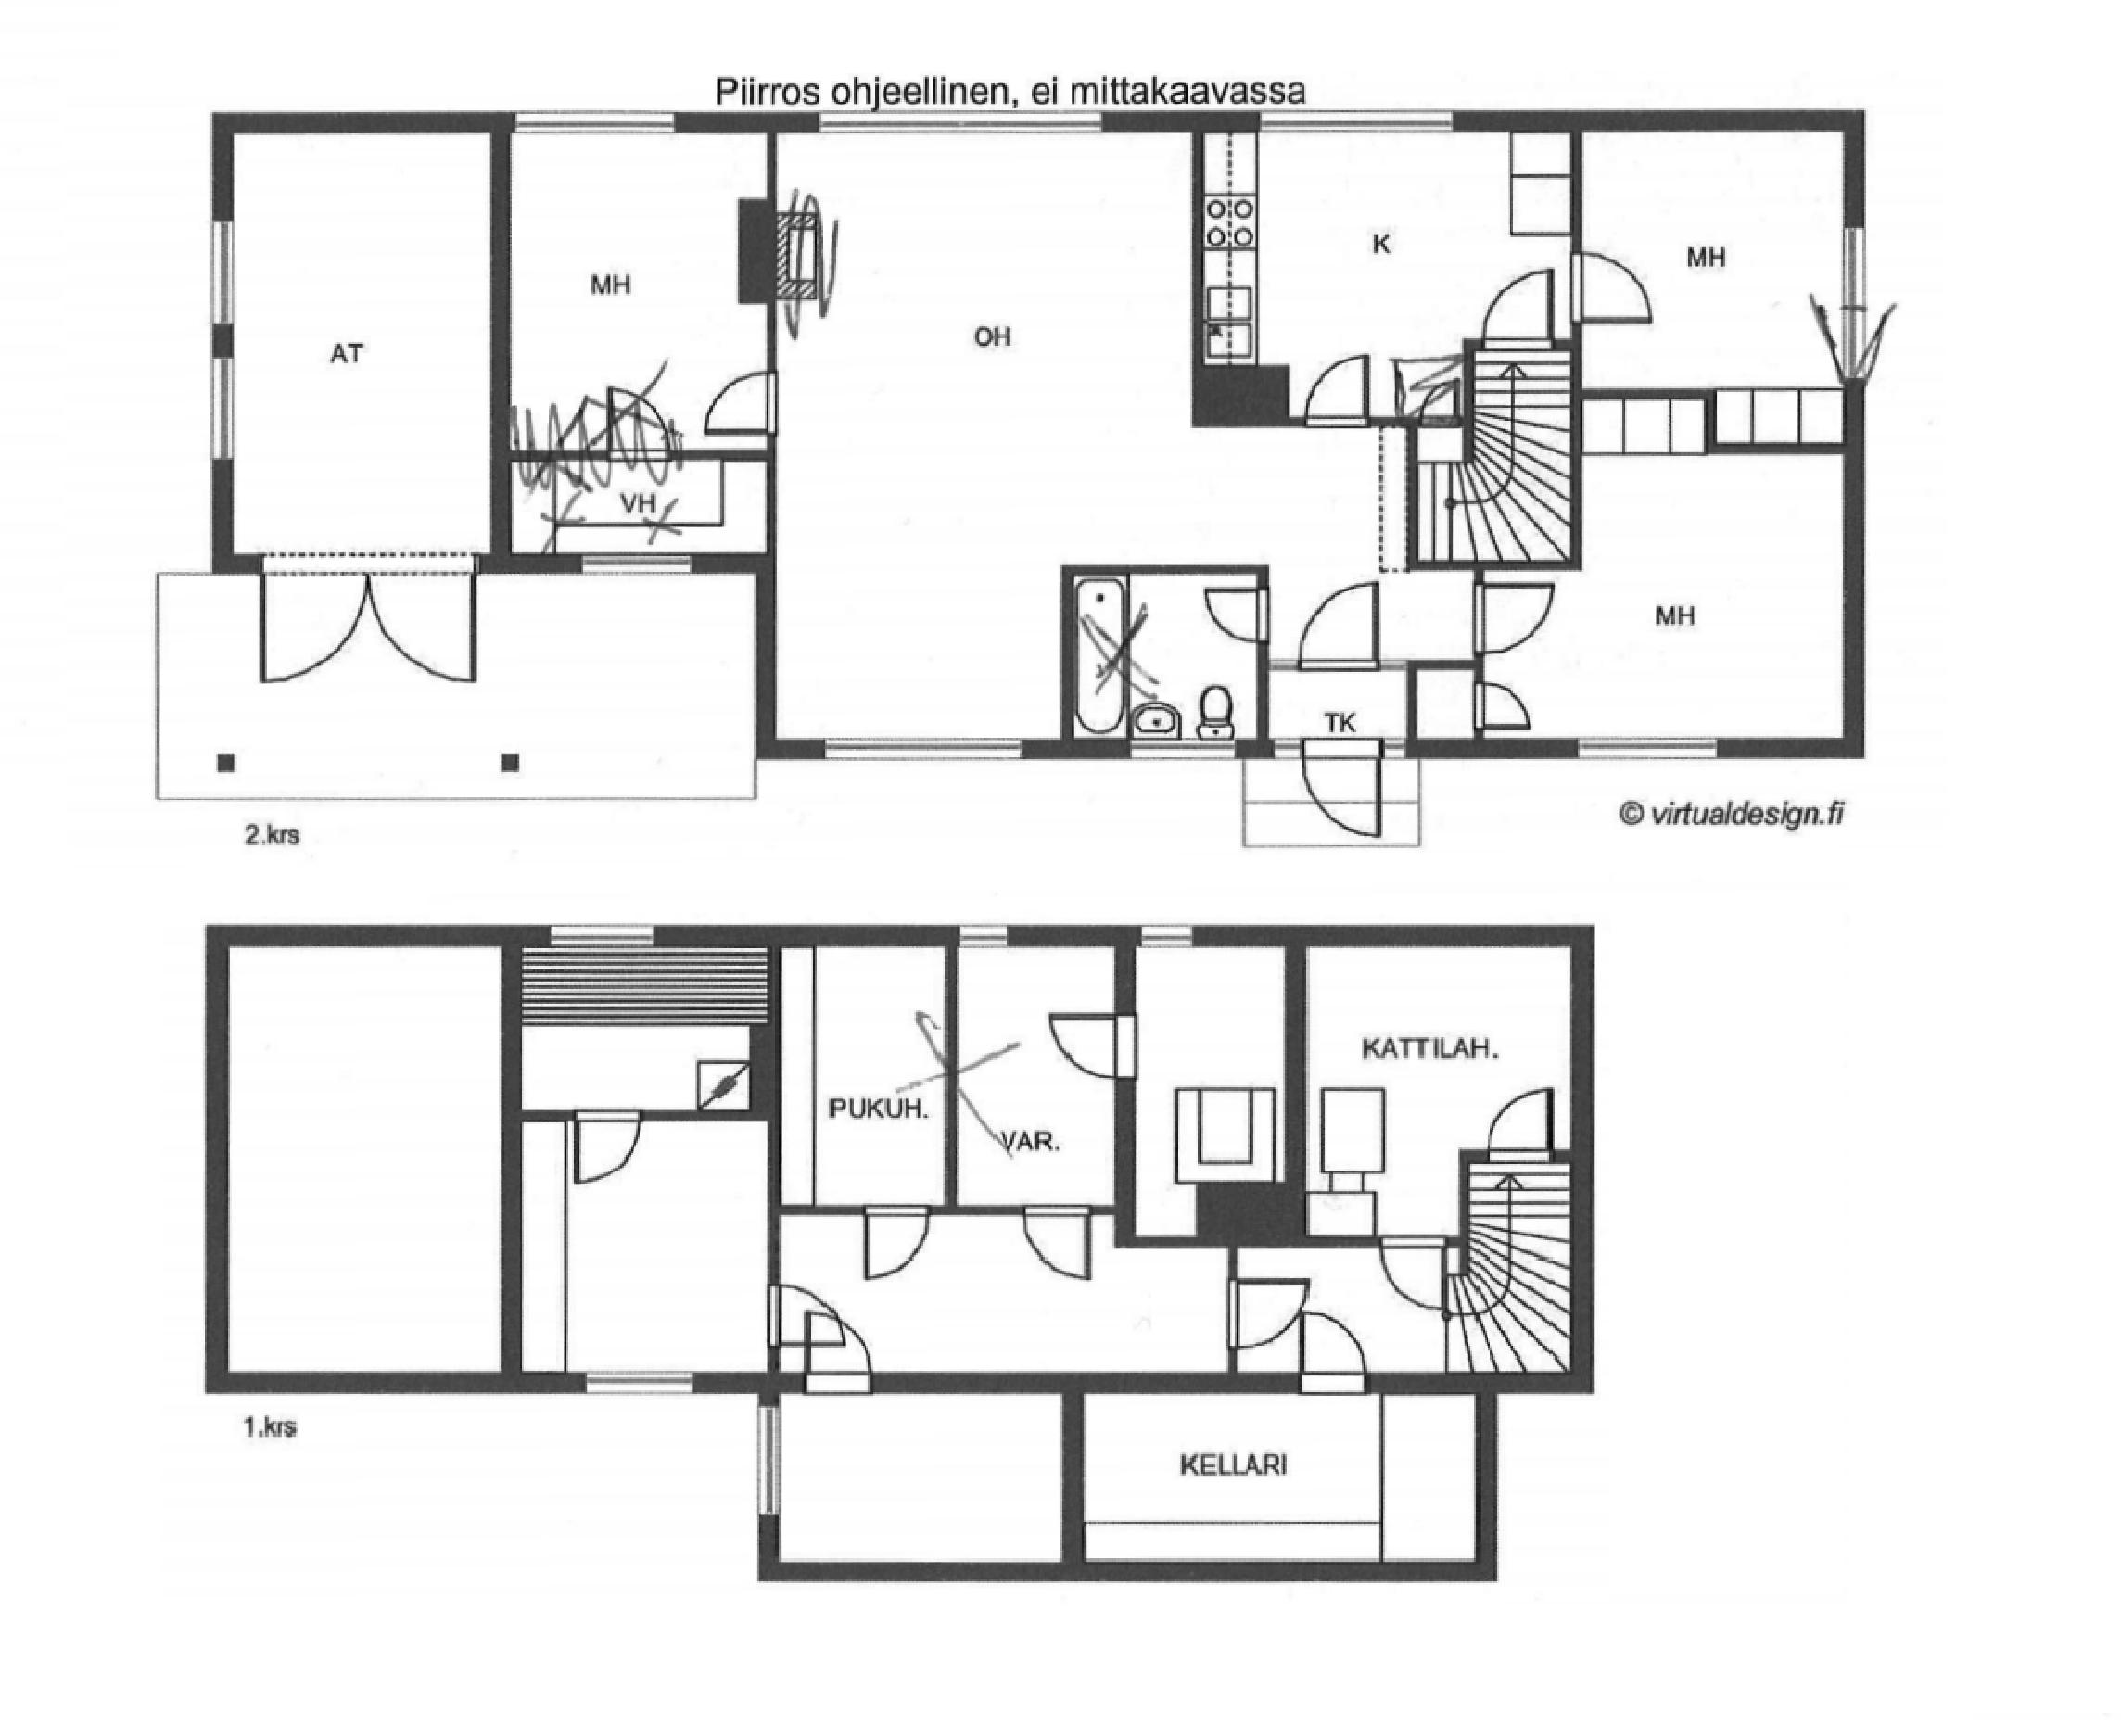door: (264, 549, 490, 687), (1293, 738, 1416, 843), (1286, 576, 1385, 674), (1208, 1275, 1325, 1354), (1467, 577, 1563, 666), (1563, 254, 1663, 336), (1039, 1009, 1143, 1081), (842, 1203, 939, 1278), (1295, 1299, 1365, 1401), (802, 1308, 883, 1394), (569, 1107, 645, 1192), (1480, 264, 1552, 345), (1376, 1239, 1453, 1312), (1492, 1079, 1557, 1162), (692, 379, 791, 433), (1016, 1204, 1090, 1271), (768, 1285, 846, 1349), (1300, 356, 1365, 428), (1205, 577, 1268, 637), (1473, 681, 1540, 738)
window: (821, 107, 1105, 141), (1254, 102, 1457, 137), (1836, 222, 1873, 384), (826, 734, 1022, 764), (1580, 731, 1730, 768), (514, 107, 675, 139), (543, 917, 650, 951), (583, 1370, 691, 1400), (206, 215, 236, 320), (583, 549, 692, 576), (215, 354, 236, 463), (953, 923, 1009, 953), (1138, 921, 1193, 951)
zone: (782, 132, 1480, 734), (160, 569, 759, 794), (1464, 393, 1844, 734), (231, 937, 509, 1375), (227, 118, 491, 556), (1203, 129, 1582, 424), (504, 127, 765, 445), (773, 1199, 1230, 1377), (1302, 940, 1564, 1227), (1078, 1391, 1474, 1563), (1575, 132, 1844, 384), (518, 1122, 775, 1370), (1235, 1236, 1575, 1380), (786, 1393, 1068, 1556), (951, 942, 1117, 1206), (782, 938, 944, 1206), (1138, 938, 1282, 1238), (521, 931, 759, 1113), (513, 458, 761, 549)
